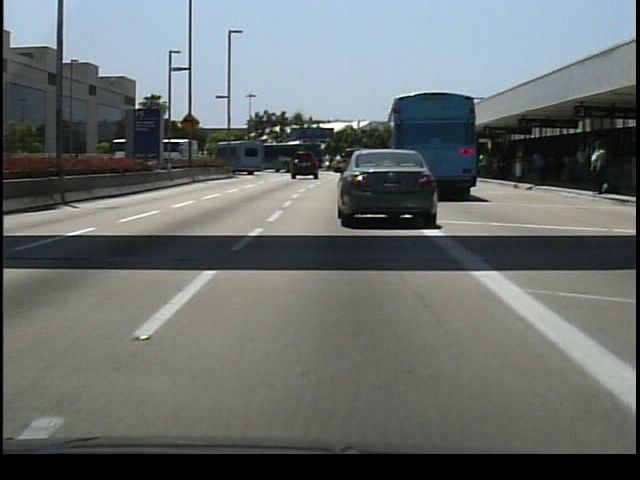person: (585, 138, 611, 199)
